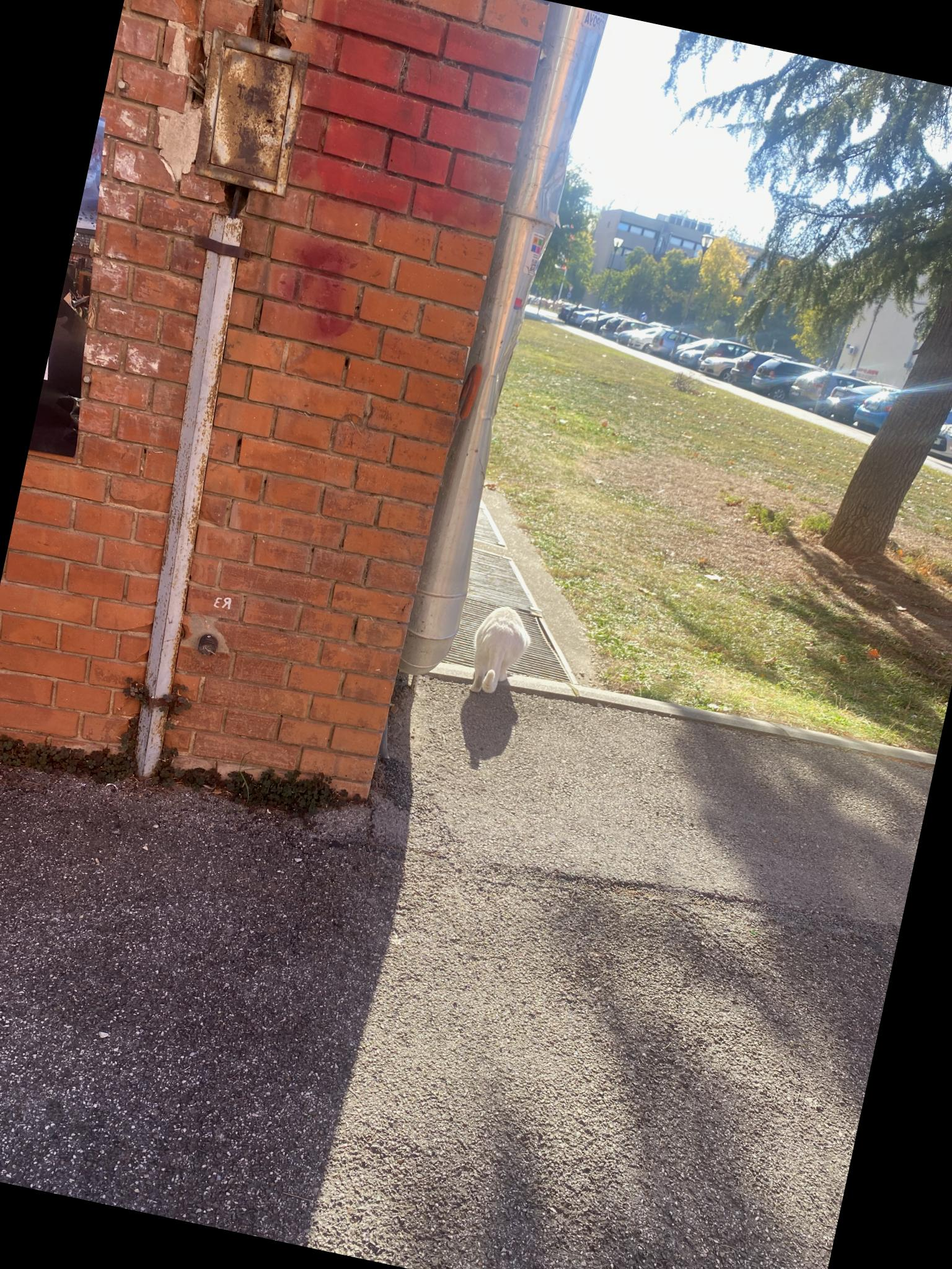macka: (463, 601, 538, 702)
